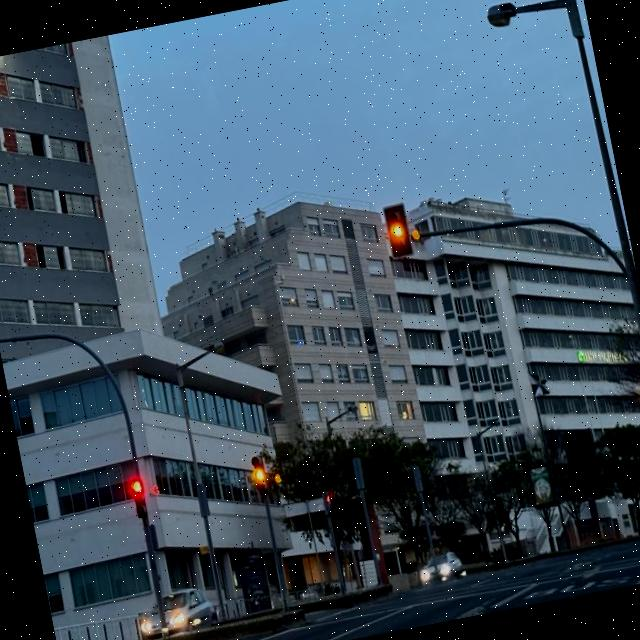red_light: (126, 473, 148, 520)
yellow_light: (381, 202, 414, 264), (246, 452, 269, 502), (635, 366, 640, 421)
